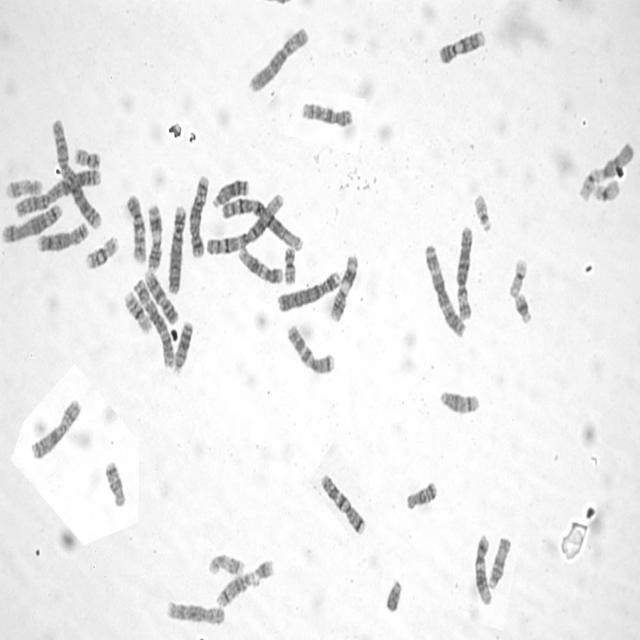A1: (202, 189, 285, 257), (217, 193, 303, 252)
A2: (49, 113, 103, 230), (11, 164, 102, 218)
A3: (421, 239, 467, 338), (130, 272, 176, 369)
B4: (274, 266, 342, 314), (163, 200, 187, 296)
B5: (0, 199, 64, 245), (185, 170, 210, 259)
C10: (123, 188, 148, 265), (298, 96, 354, 128)
C11: (326, 250, 360, 324), (144, 198, 164, 272)
C12: (234, 242, 284, 285), (472, 529, 494, 607)
C6: (245, 21, 310, 94), (452, 220, 475, 322)
C7: (317, 468, 367, 536), (283, 318, 336, 376)
C8: (163, 595, 227, 627), (34, 217, 89, 253)
C9: (142, 264, 179, 326), (436, 23, 487, 66)
D13: (209, 174, 250, 209), (170, 316, 194, 374)
D14: (214, 568, 258, 610), (436, 384, 482, 416)
D15: (590, 137, 634, 181), (485, 531, 513, 591)
E16: (121, 285, 153, 335), (82, 230, 120, 270)
E17: (205, 548, 246, 578), (2, 172, 44, 200)
E18: (100, 455, 126, 509), (402, 475, 438, 512)
F19: (505, 253, 529, 299), (589, 174, 621, 204)
F20: (71, 143, 102, 170), (280, 242, 297, 286)
G21: (511, 286, 534, 324), (249, 553, 276, 584)
G22: (576, 162, 602, 202), (470, 188, 492, 233)
X: (27, 394, 82, 462)
Y: (382, 574, 403, 614)
